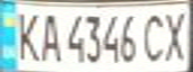3: (81, 11, 106, 64)
4: (60, 9, 84, 63), (103, 10, 124, 63)
6: (118, 10, 142, 63)
A: (33, 9, 63, 63)
C: (139, 9, 169, 63)
K: (6, 8, 42, 62)
X: (160, 8, 193, 63)
